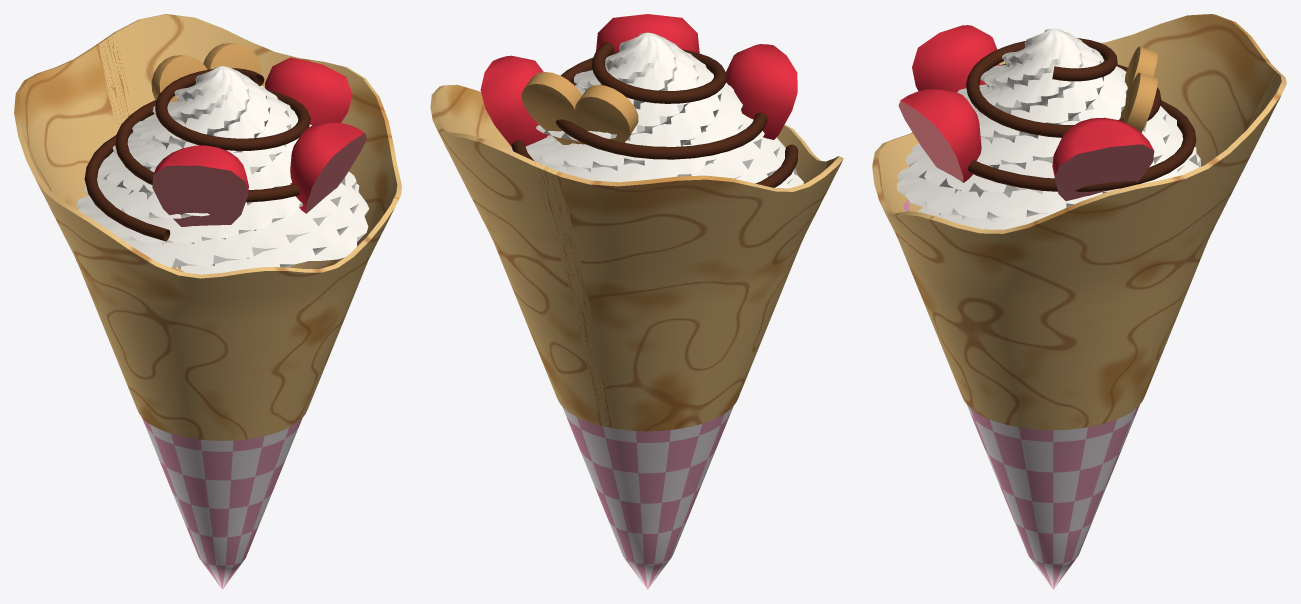
File: Crepe_Cone.fbx
The picture shows the model from 3 angles, left to right: view 1: azimuth 30°, elevation 25°; view 2: azimuth 150°, elevation 25°; view 3: azimuth 270°, elevation 25°; orthographic projection. The views are drawn at different scales.
Parts seen in each view (by area): view 1: Crepe_Cone; view 2: Crepe_Cone; view 3: Crepe_Cone.
Boxes of the visible parts, left/top/right/bottom form: Crepe_Cone: left=14, top=14, right=401, bottom=589; Crepe_Cone: left=430, top=14, right=843, bottom=589; Crepe_Cone: left=872, top=14, right=1286, bottom=589.
Size of the model in its own units: 0.1129 by 0.168 by 0.1125.
8 materials, 1 textured.
